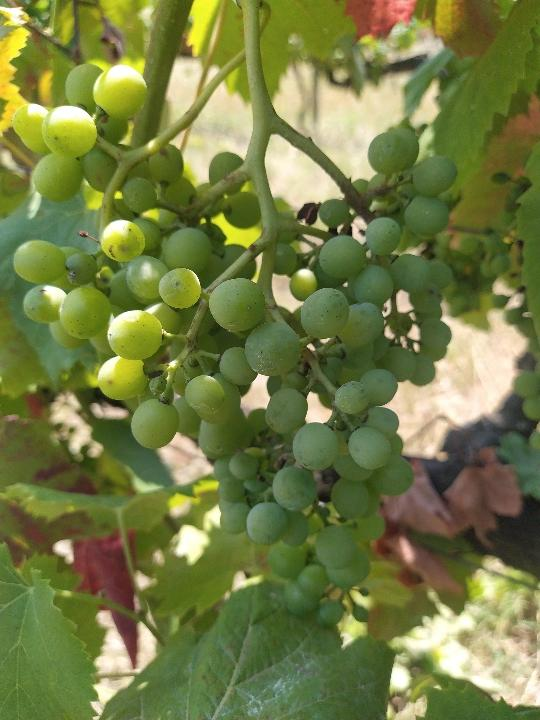grape: (9, 63, 455, 631)
